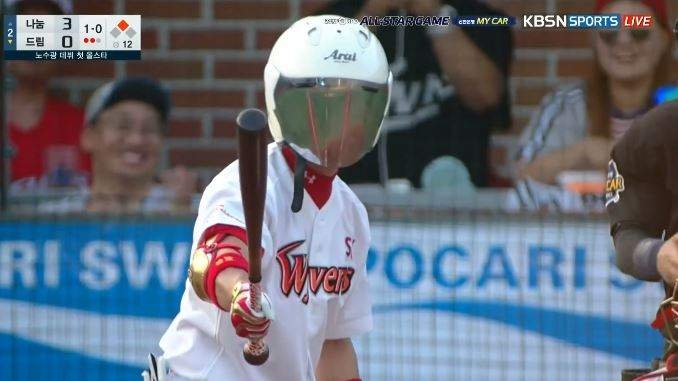helmet: (256, 15, 401, 166)
